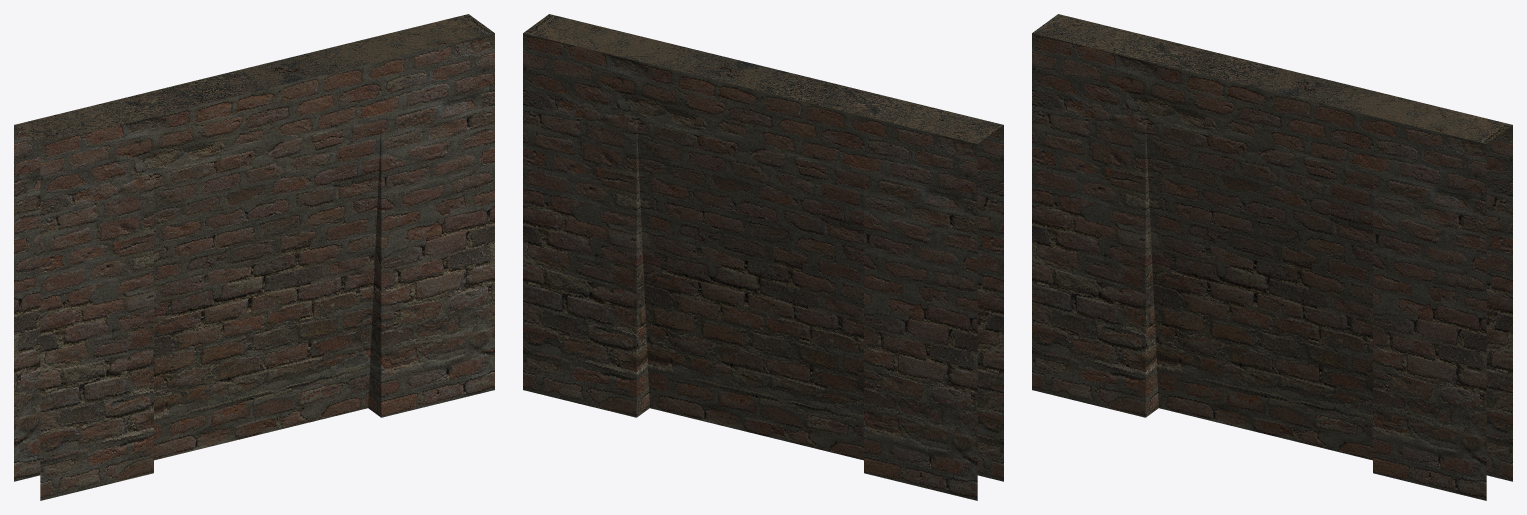
The model's file is wall_hr_1_t_2.glb.
3 views of the same model, side by side, from view 1: azimuth 30°, elevation 25°; view 2: azimuth 150°, elevation 25°; view 3: azimuth 330°, elevation 25° (orthographic).
Visible parts, largest first — view 1: wall_hr_1_t_2; view 2: wall_hr_1_t_2; view 3: wall_hr_1_t_2.
Part boxes in pixels (x1,y1,x2,y2): wall_hr_1_t_2: (14, 14, 494, 500); wall_hr_1_t_2: (523, 14, 1003, 500); wall_hr_1_t_2: (1032, 14, 1512, 500).
Size of the model in its own units: 4 by 3 by 0.4.
Materials: 2 (2 with a texture image).
